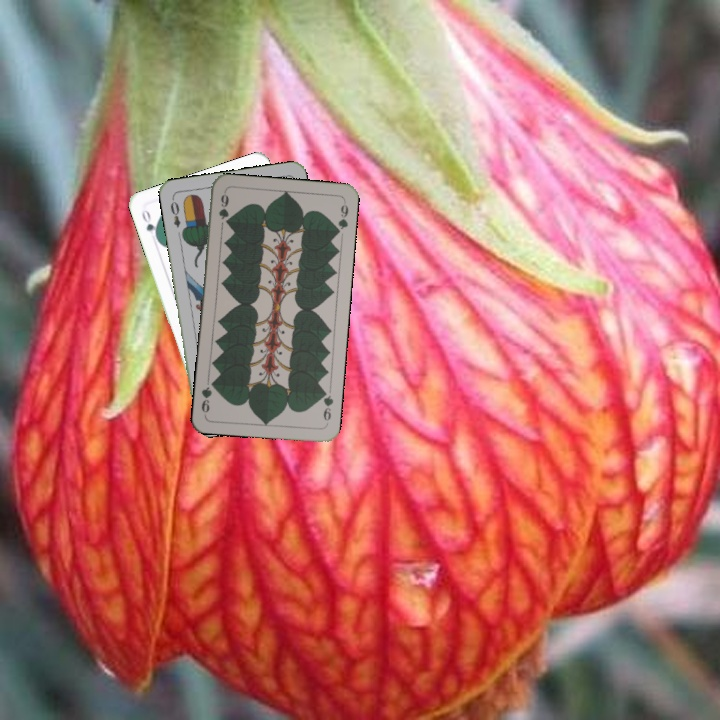EO: (166, 194, 183, 230)
G9: (318, 386, 336, 427), (215, 188, 231, 222)
GO: (137, 205, 161, 243)
